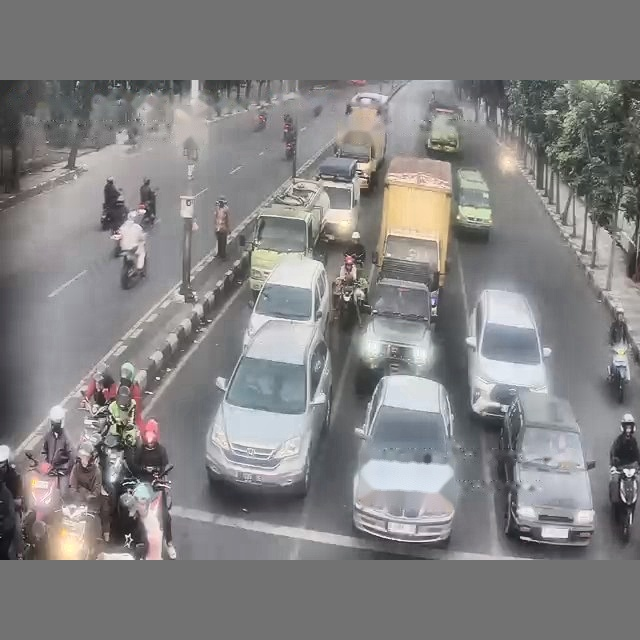Mobil: (206, 320, 332, 496), (353, 375, 459, 544), (497, 392, 594, 545), (466, 289, 551, 417), (354, 277, 435, 394), (243, 255, 330, 346), (455, 169, 492, 238), (426, 114, 460, 157), (346, 92, 388, 118)
Motor: (118, 466, 172, 559), (22, 453, 65, 558), (49, 501, 98, 559), (610, 463, 638, 542), (609, 343, 629, 402), (120, 249, 147, 289), (255, 112, 266, 130), (285, 140, 295, 159)
Truk: (372, 156, 452, 321), (238, 179, 329, 299), (334, 107, 386, 189), (316, 157, 359, 241)
